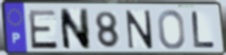8: (93, 11, 122, 50)
E: (27, 8, 60, 50)
L: (189, 10, 217, 50)
N: (58, 8, 92, 52), (125, 10, 155, 51)
O: (157, 9, 187, 51)
